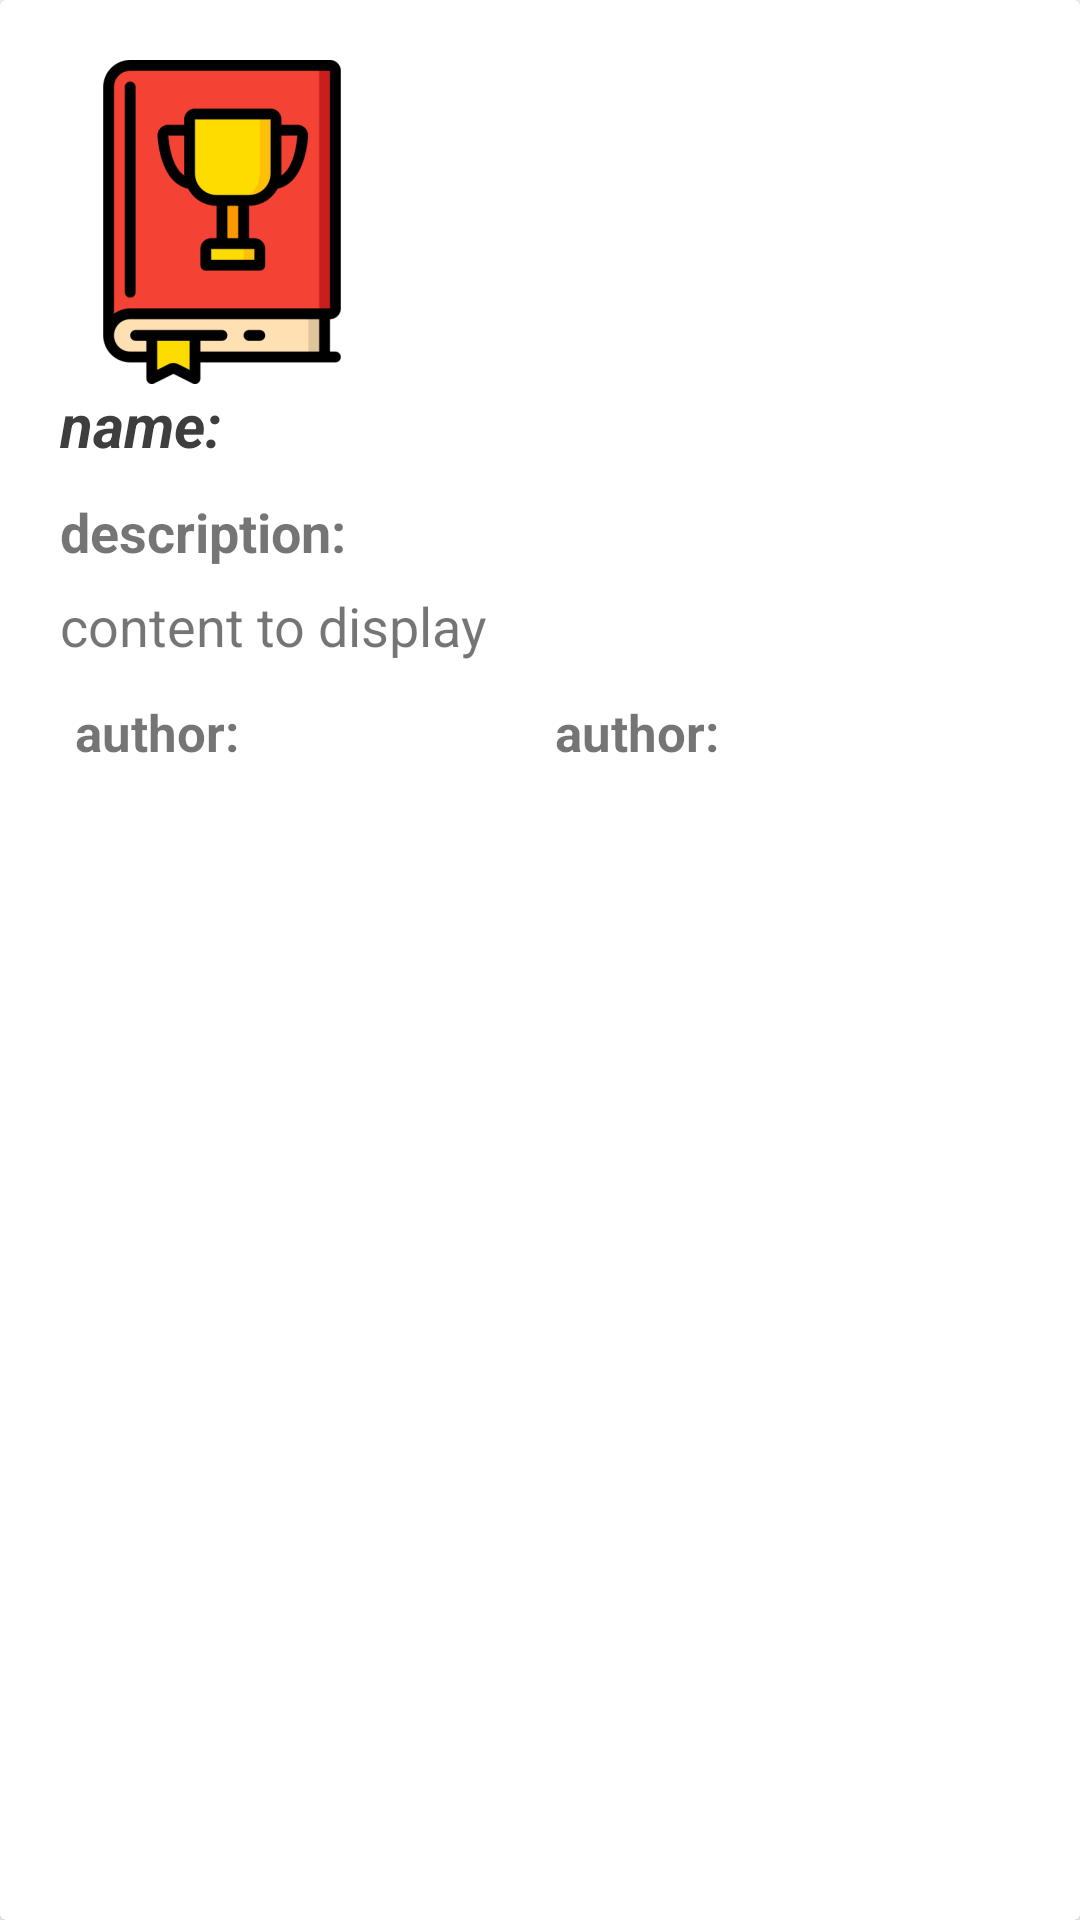

Screen size 1080px x 1920px. Icon name, then its box in pixels as region(x1, y1, x2, y2):
book content: region(103, 60, 341, 384)
